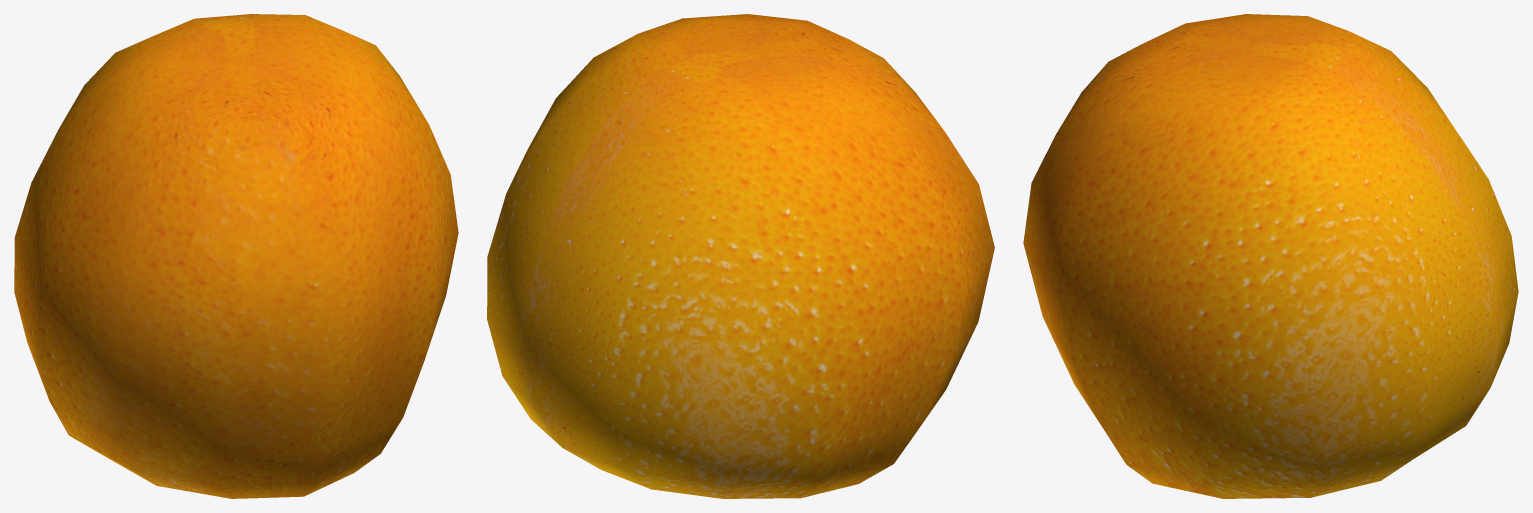
The model's file is orange.FBX.
3 views of the same model, side by side, from view 1: azimuth 30°, elevation 25°; view 2: azimuth 150°, elevation 25°; view 3: azimuth 270°, elevation 25° (orthographic). The views are drawn at different scales.
Visible parts, largest first — view 1: Orange; view 2: Orange; view 3: Orange.
Boxes of the visible parts, bbox=[...] form: Orange: bbox=[14, 14, 458, 498]; Orange: bbox=[487, 14, 994, 498]; Orange: bbox=[1023, 14, 1518, 498].
Bounding box in the file's own units: 3.08 × 2.94 × 3.12.
